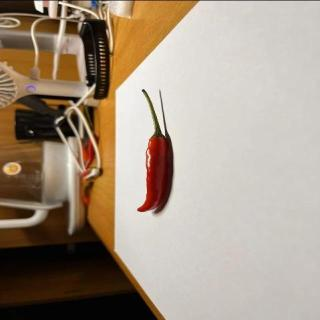Cabai Merah: (137, 89, 170, 213)
